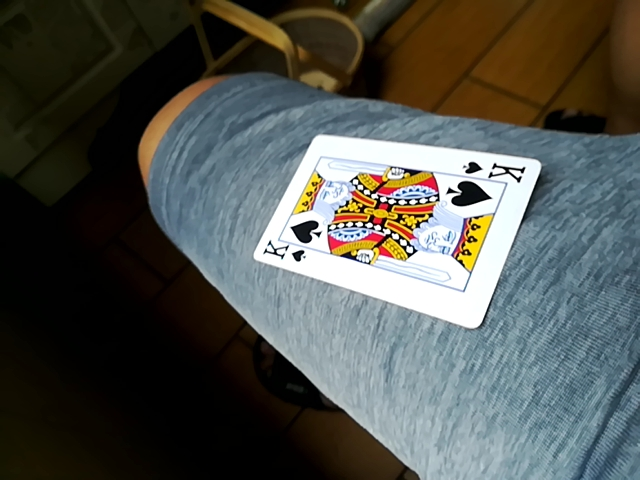ht k: (252, 132, 540, 332)
